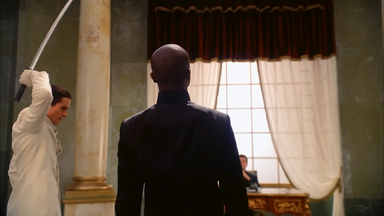bladed_weapon: (12, 0, 75, 103)
